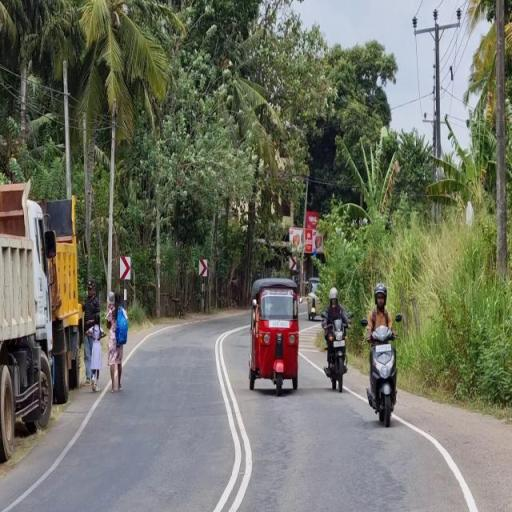double_white_line: (208, 326, 254, 512)
